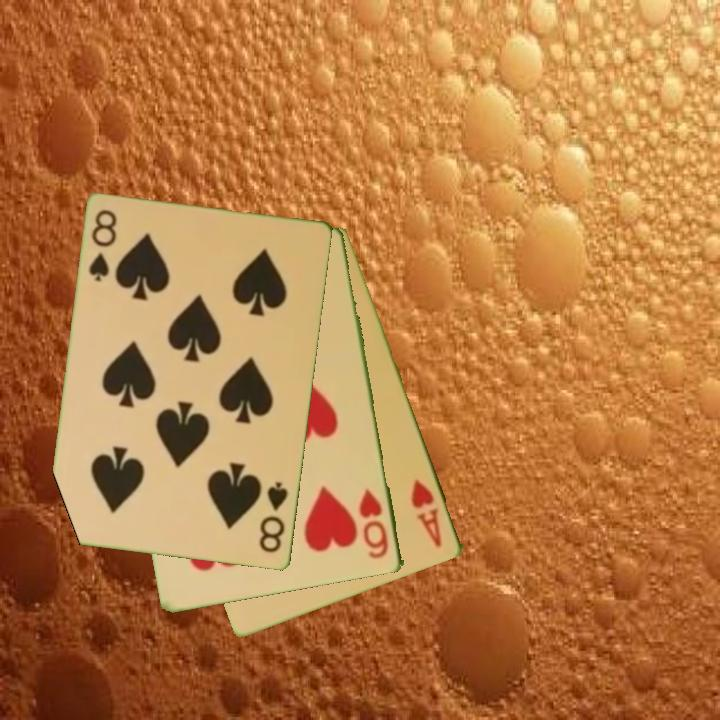6h: (356, 485, 392, 563)
8s: (256, 479, 292, 556), (86, 207, 120, 285)
Ah: (408, 475, 446, 550)
